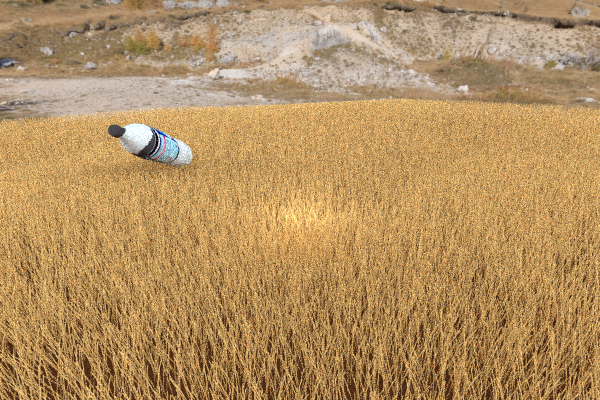Plastic Bottle: (371, 135, 497, 211), (107, 123, 192, 167)
